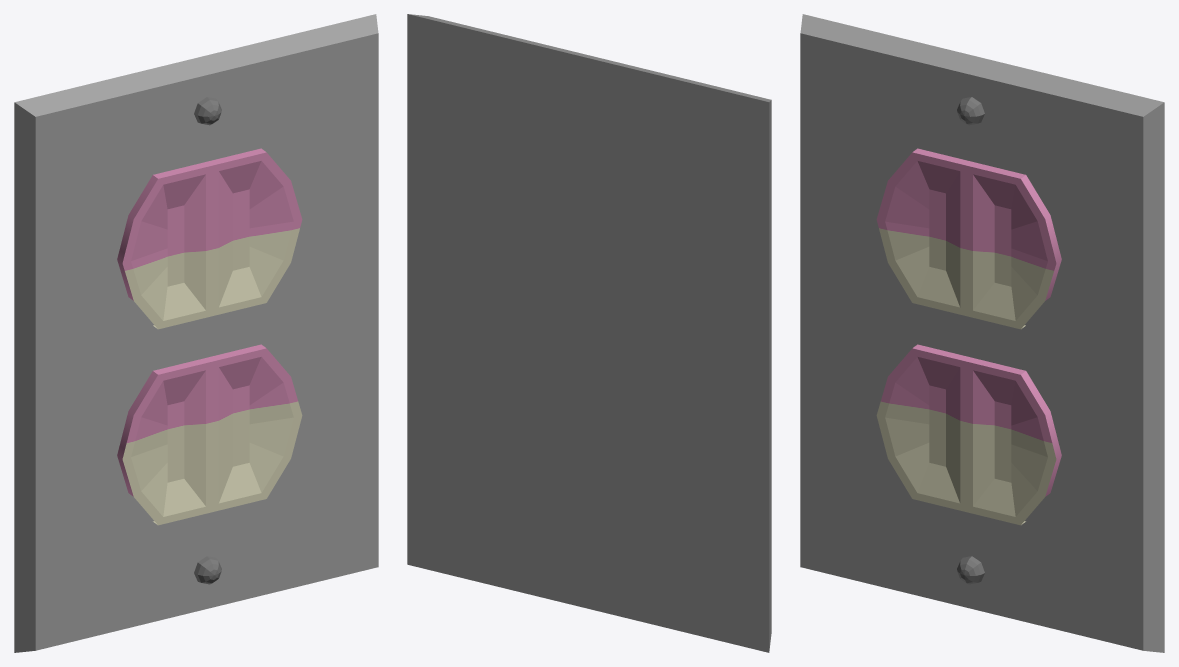
Rendered from duck_outlet3.fbx.
The picture shows the model from 3 angles, left to right: view 1: azimuth 30°, elevation 25°; view 2: azimuth 150°, elevation 25°; view 3: azimuth 330°, elevation 25°; orthographic projection.
Parts seen in each view (by area): view 1: polySurface6; view 2: polySurface6; view 3: polySurface6.
Part boxes in pixels (<box>): polySurface6: <box>14,14,378,652</box>; polySurface6: <box>407,14,771,652</box>; polySurface6: <box>800,14,1164,652</box>.
Bounding box in the file's own units: 2.75 × 4 × 0.2521.
